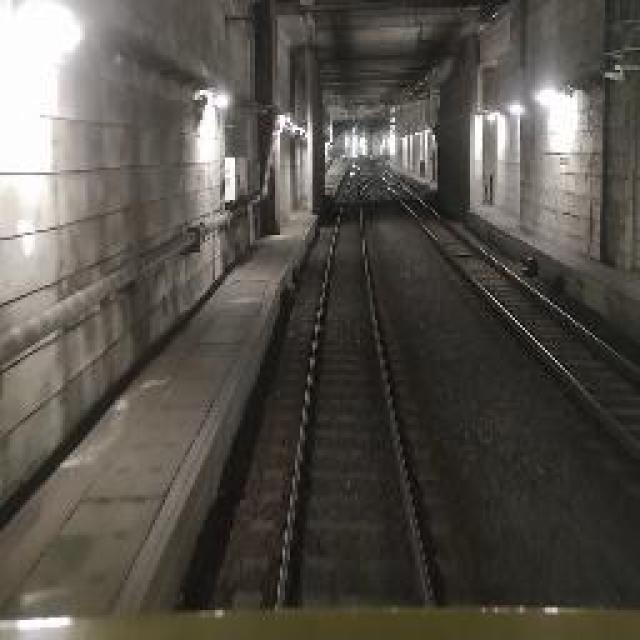rail: (239, 150, 485, 610)
